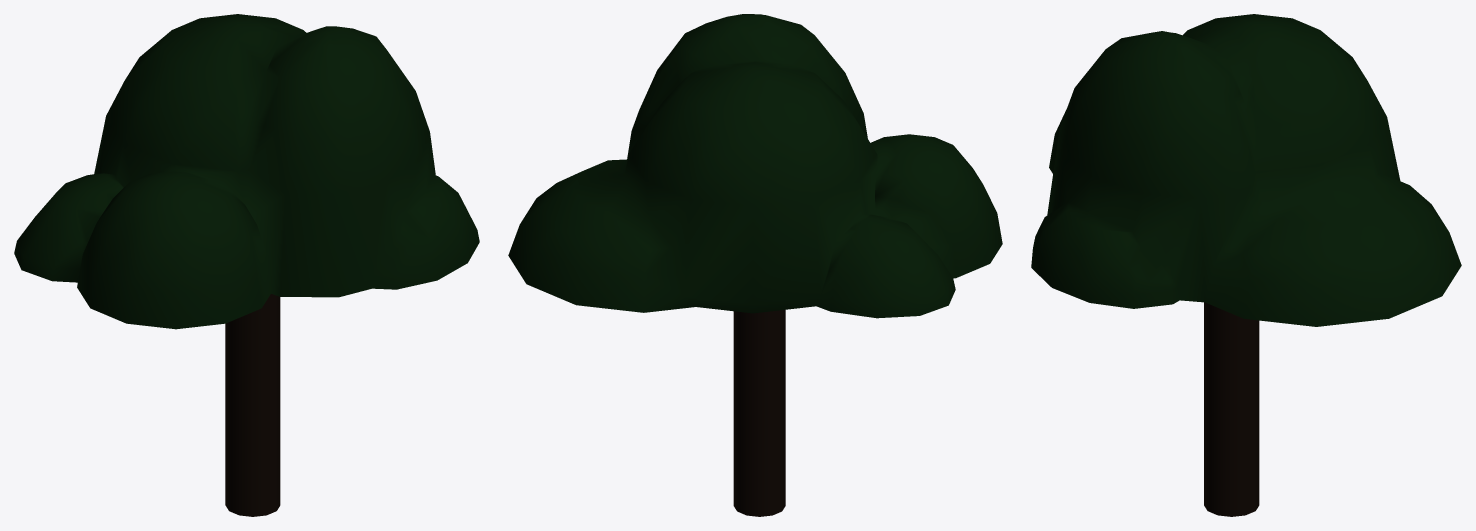
The model's file is Prop_Tree_03.FBX.
3 views of the same model, side by side, from view 1: azimuth 30°, elevation 25°; view 2: azimuth 150°, elevation 25°; view 3: azimuth 270°, elevation 25° (orthographic). The views are drawn at different scales.
Parts seen in each view (by area): view 1: Prop_Tree_03; view 2: Prop_Tree_03; view 3: Prop_Tree_03.
Boxes of the visible parts, <box> form: Prop_Tree_03: <box>14,14,479,516</box>; Prop_Tree_03: <box>508,14,1002,516</box>; Prop_Tree_03: <box>1031,14,1461,516</box>.
Bounding box in the file's own units: 128 × 141 × 112.
